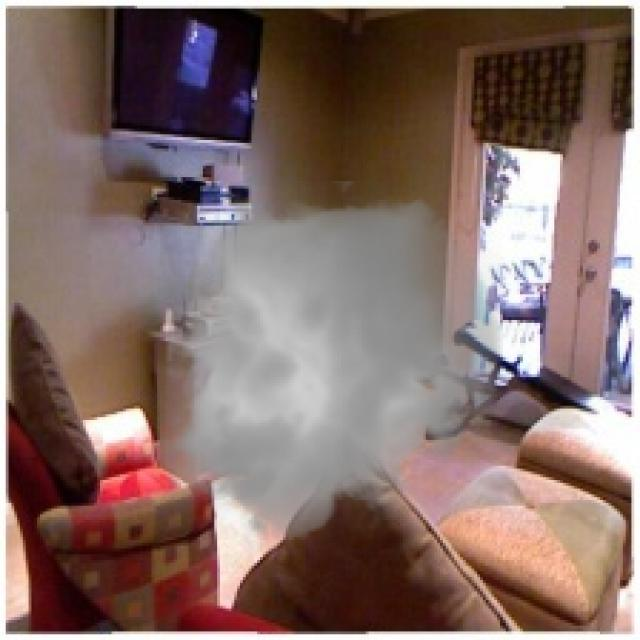smoke: (152, 180, 514, 554)
